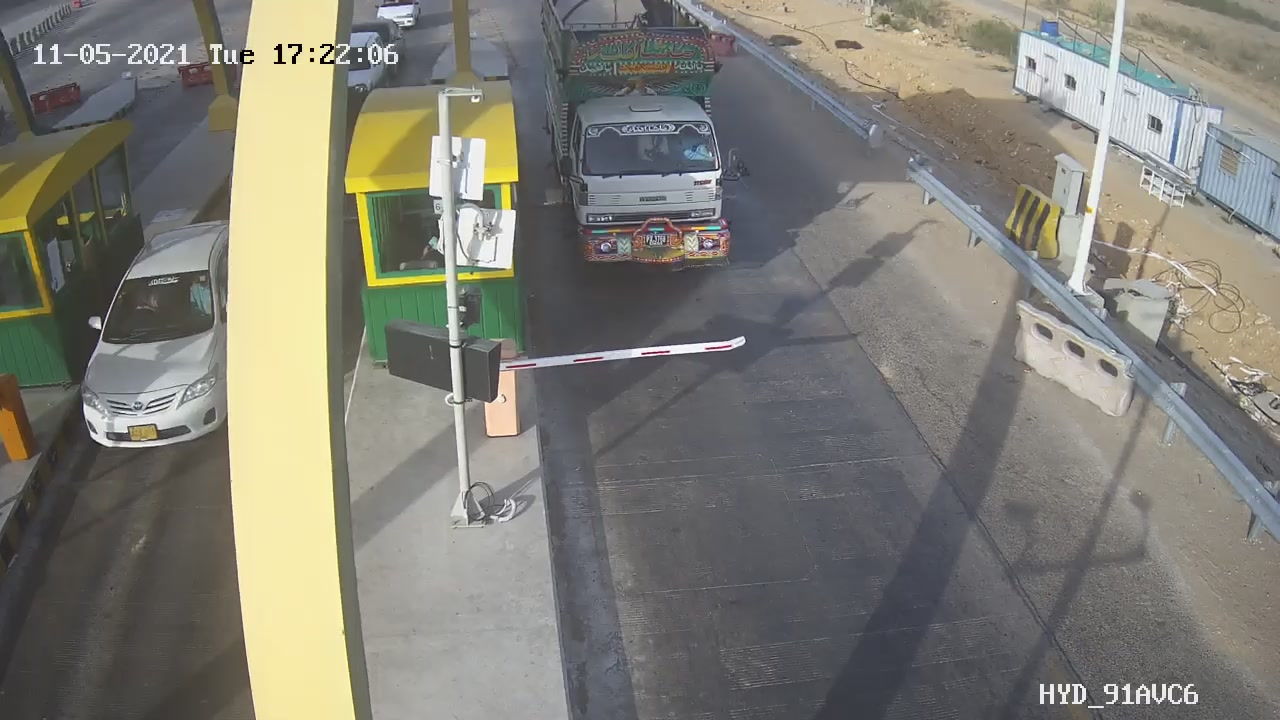F5: (529, 1, 769, 296)
